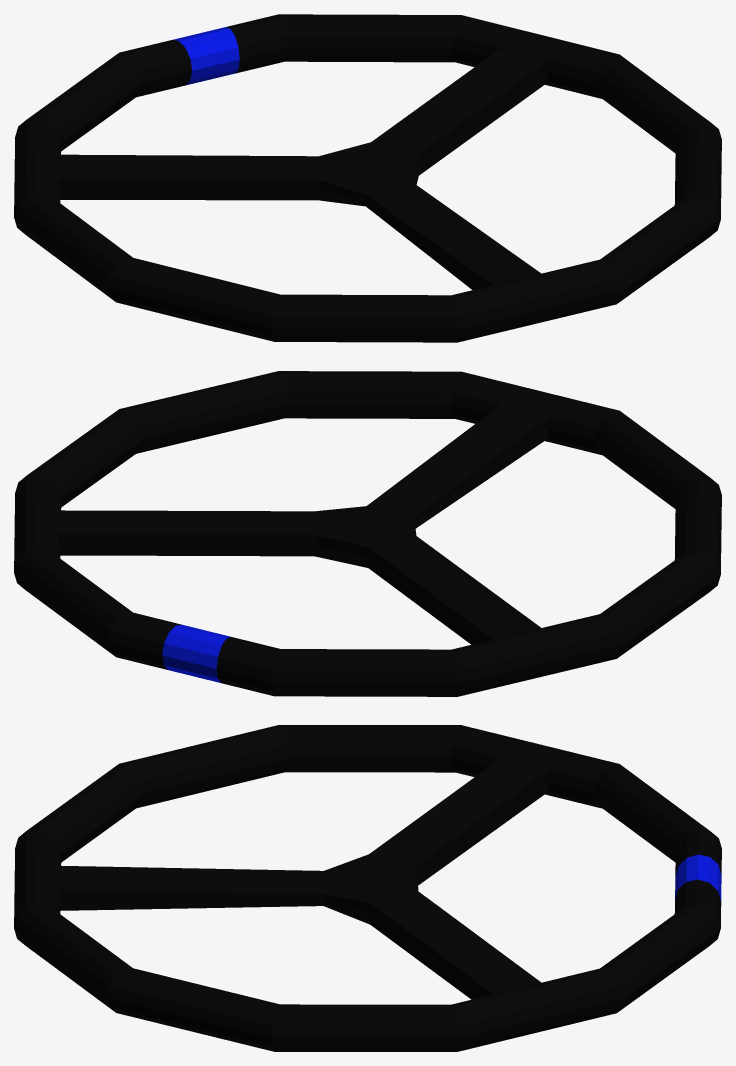
The model's file is steeringwheel.fbx.
3 views of the same model, one above another, from view 1: azimuth 30°, elevation 25°; view 2: azimuth 150°, elevation 25°; view 3: azimuth 270°, elevation 25° (orthographic).
Visible parts, largest first — view 1: Wheel; view 2: Wheel; view 3: Wheel.
Part boxes in pixels (x1,y1,x2,y2): Wheel: (14,14,721,342); Wheel: (14,371,721,696); Wheel: (14,725,721,1051).
Size of the model in its own units: 57.98 by 4.05 by 57.98.
